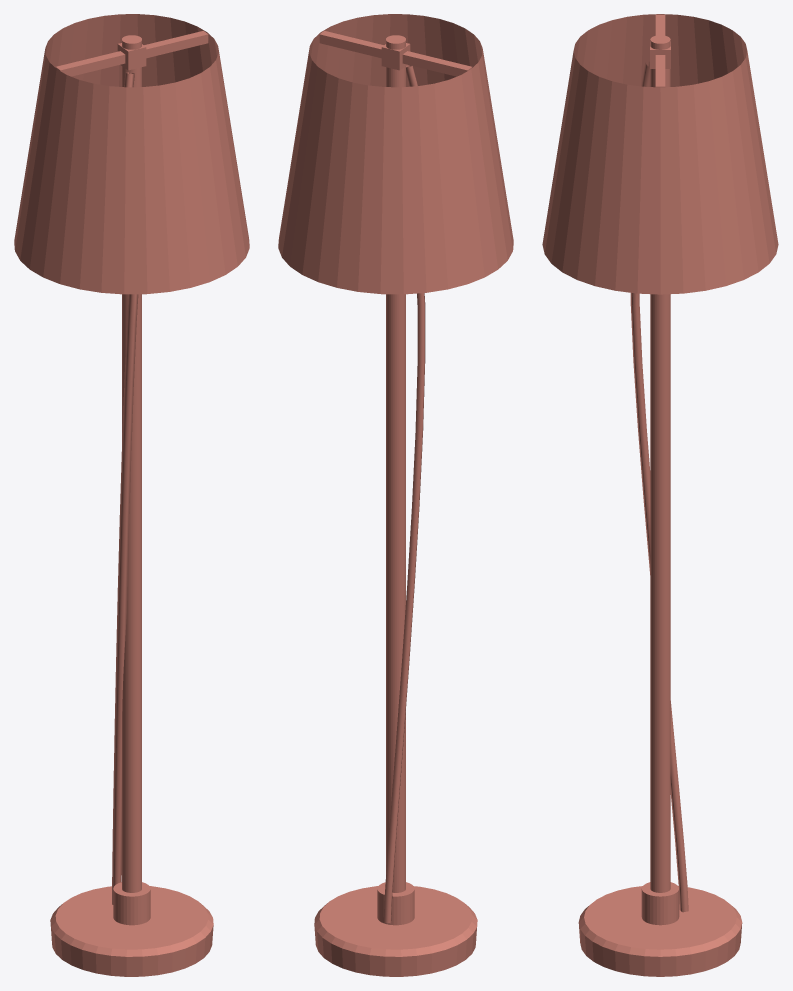
The model's file is LightStand01.fbx.
3 renders of one model, left to right at view 1: azimuth 30°, elevation 25°; view 2: azimuth 150°, elevation 25°; view 3: azimuth 270°, elevation 25°, orthographic.
Parts seen in each view (by area): view 1: LightStand01; view 2: LightStand01; view 3: LightStand01.
Part boxes in pixels (x1,y1,x2,y2): LightStand01: (14,14,249,976); LightStand01: (278,14,513,976); LightStand01: (542,14,778,976).
Size of the model in its own units: 68.27 by 288 by 68.27.
